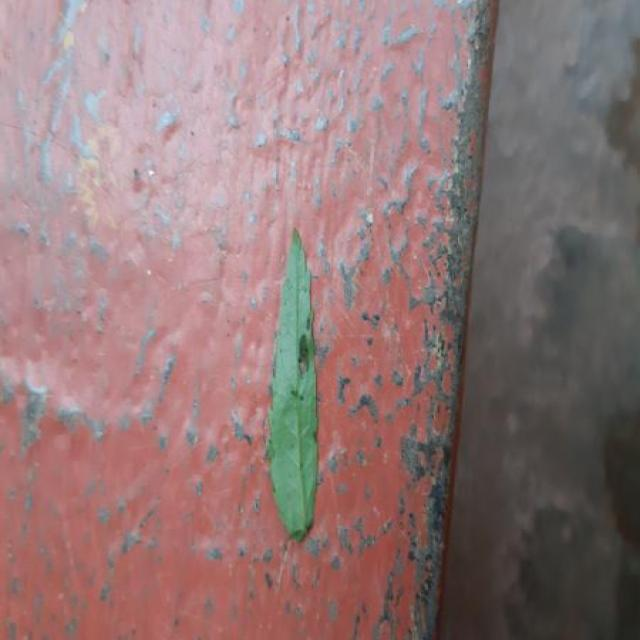leaf spot: (267, 231, 318, 541)
marigold: (268, 231, 318, 541)
